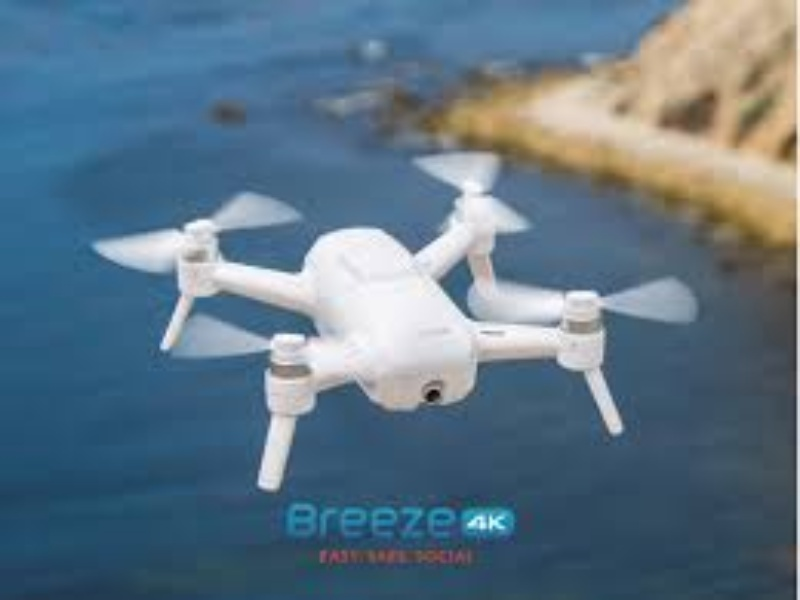drone: (114, 157, 639, 500)
